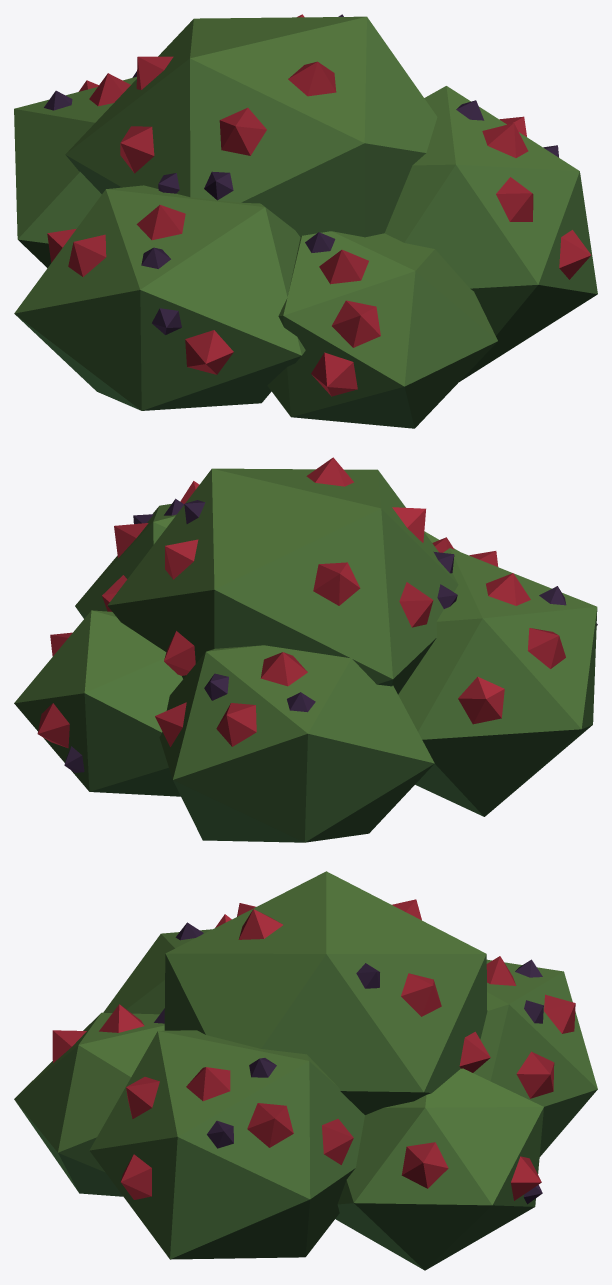
File: berry-bush.glb
The picture shows the model from 3 angles, top to bottom: view 1: azimuth 30°, elevation 25°; view 2: azimuth 150°, elevation 25°; view 3: azimuth 270°, elevation 25°; orthographic projection. The views are drawn at different scales.
Parts seen in each view (by area): view 1: berry-bush; view 2: berry-bush; view 3: berry-bush.
Boxes of the visible parts, bbox=[...] form: berry-bush: bbox=[14, 14, 597, 428]; berry-bush: bbox=[14, 457, 597, 842]; berry-bush: bbox=[14, 871, 597, 1270].
Size of the model in its own units: 1.45 by 0.8324 by 1.49.
